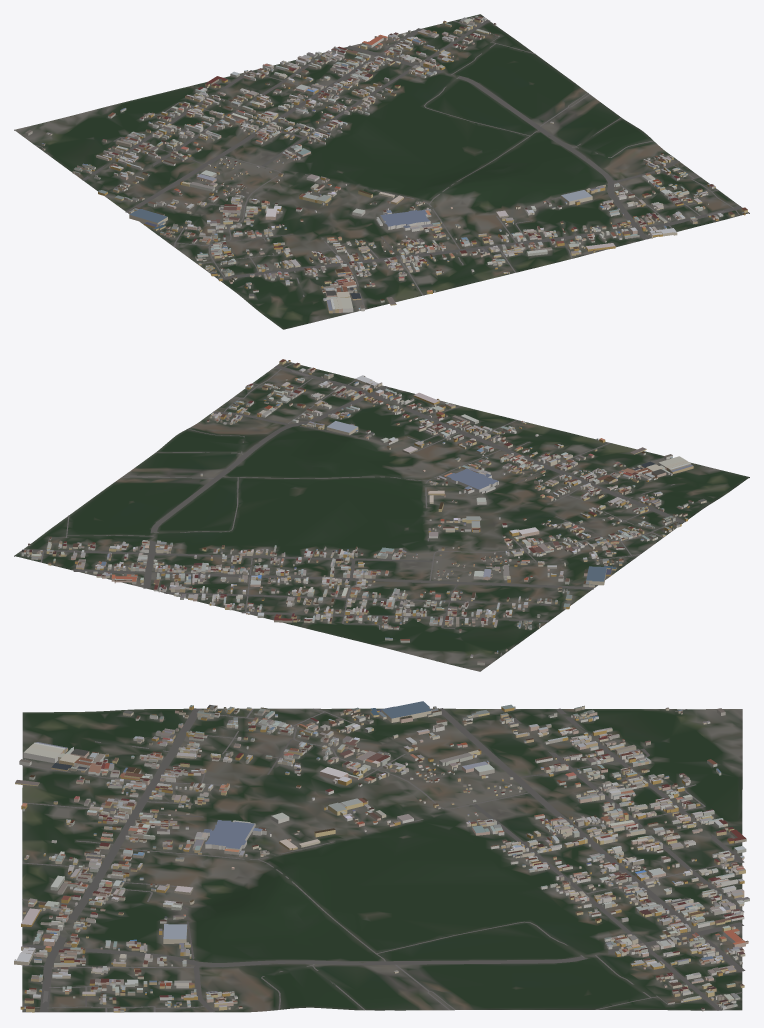
3 renders of one model, top to bottom at view 1: azimuth 30°, elevation 25°; view 2: azimuth 150°, elevation 25°; view 3: azimuth 270°, elevation 25°, orthographic. The views are drawn at different scales.
Visible parts, largest first — view 1: ground, buildings, roads; view 2: ground, buildings, roads; view 3: ground, buildings, roads.
Part boxes in pixels (bbox=[...]): ground: bbox=[14, 14, 749, 329]; buildings: bbox=[25, 15, 747, 313]; roads: bbox=[35, 20, 742, 309]; ground: bbox=[14, 361, 749, 671]; buildings: bbox=[21, 359, 706, 665]; roads: bbox=[22, 362, 685, 656]; ground: bbox=[22, 708, 742, 1012]; buildings: bbox=[14, 701, 749, 1012]; roads: bbox=[22, 708, 745, 1012].
Bounding box in the file's own units: 1415 × 26.9 × 1432.
